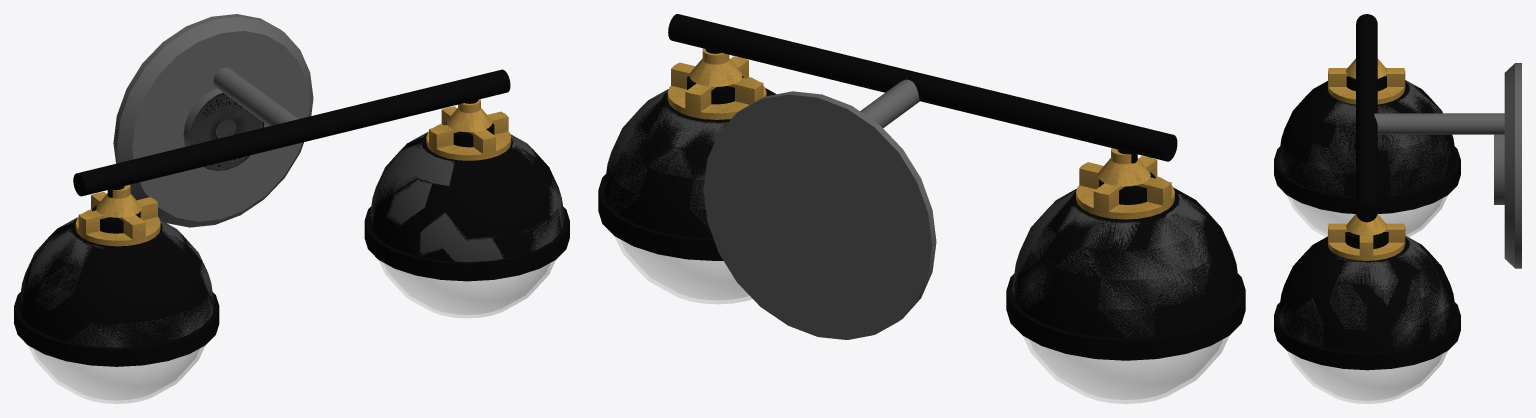
File: light-7.glb
The picture shows the model from 3 angles, left to right: view 1: azimuth 30°, elevation 25°; view 2: azimuth 150°, elevation 25°; view 3: azimuth 270°, elevation 25°; orthographic projection. The views are drawn at different scales.
Parts seen in each view (by area): view 1: 3DGeom-8; view 2: 3DGeom-8; view 3: 3DGeom-8.
Boxes of the visible parts, left/top/right/bottom form: 3DGeom-8: left=14, top=14, right=569, bottom=403; 3DGeom-8: left=598, top=14, right=1245, bottom=403; 3DGeom-8: left=1274, top=14, right=1521, bottom=403.
Bounding box in the file's own units: 0.4102 × 0.2021 × 0.1833.
5 materials, 2 textured.
